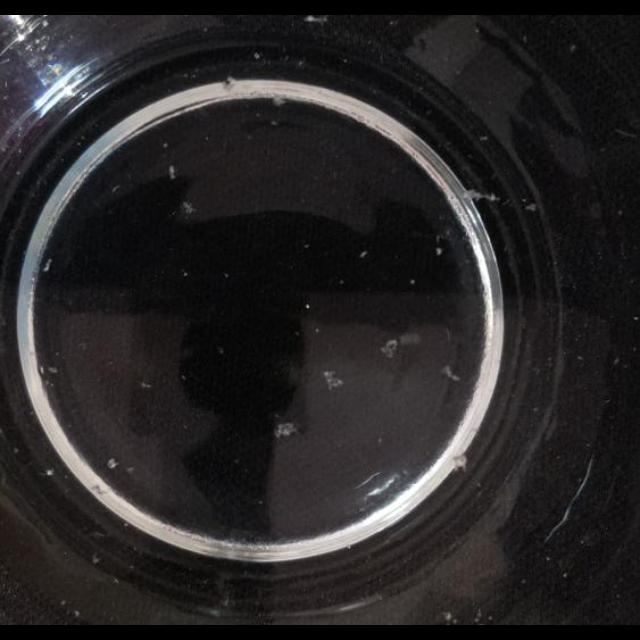Fibre: (468, 188, 499, 204), (322, 368, 344, 390), (380, 338, 400, 358), (441, 365, 461, 383), (451, 454, 467, 472), (180, 200, 196, 216), (304, 15, 328, 23), (272, 94, 286, 106), (42, 258, 52, 272), (525, 201, 537, 211), (168, 165, 176, 179)
microbeads: (46, 366, 58, 376), (107, 458, 119, 468), (91, 554, 101, 566), (126, 466, 136, 476), (140, 380, 152, 388), (358, 250, 368, 258), (435, 247, 443, 256), (46, 469, 54, 477), (253, 51, 261, 59), (218, 346, 225, 354), (479, 136, 488, 142), (182, 270, 188, 278), (570, 44, 576, 52), (305, 302, 311, 310), (614, 357, 620, 365), (74, 611, 80, 619), (163, 142, 169, 150), (40, 366, 46, 374), (409, 278, 416, 284)
